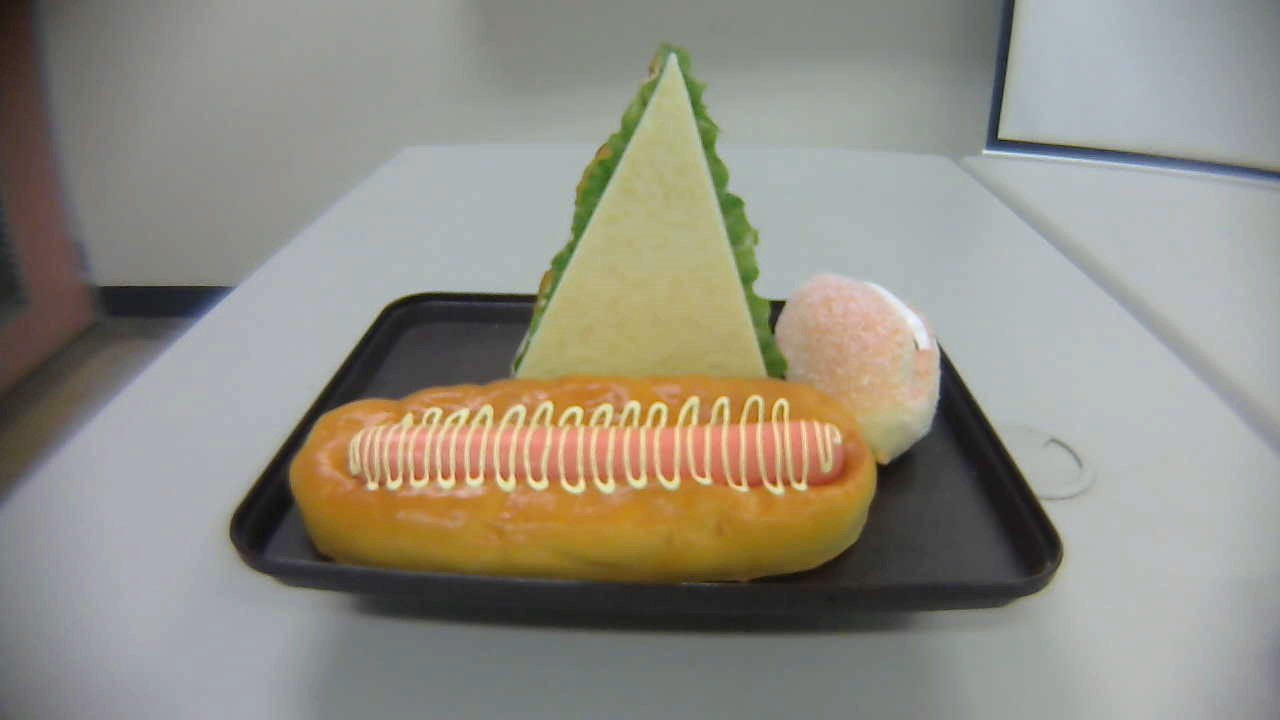coconut: (774, 273, 942, 466)
hot dog: (289, 375, 877, 585)
sandwich: (511, 47, 784, 395)
